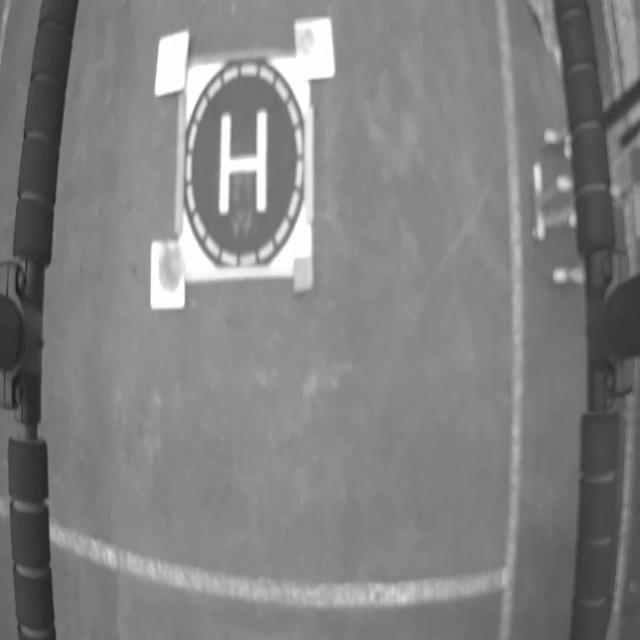Helipad: (217, 110, 268, 213)
